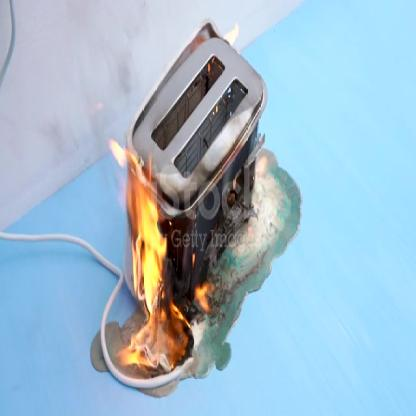fire: (111, 140, 198, 377)
smoke: (48, 29, 142, 186)
